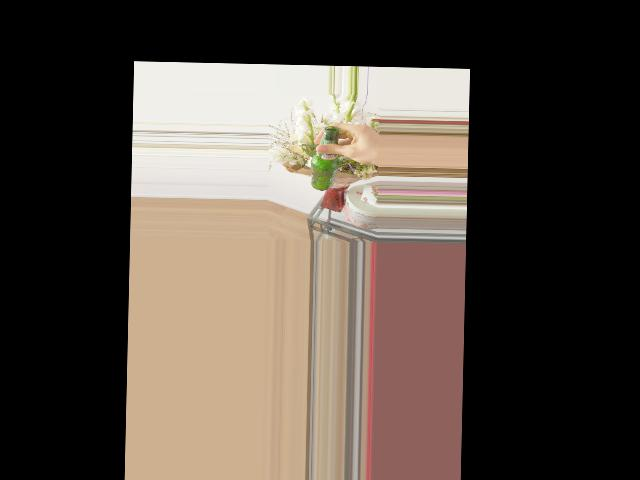beer: (310, 126, 340, 191)
